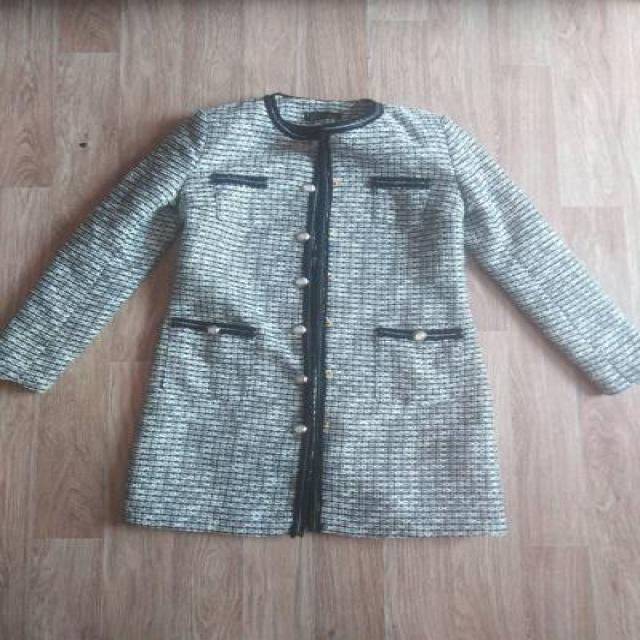Clothes -Biodegradable-: (0, 91, 640, 540)
